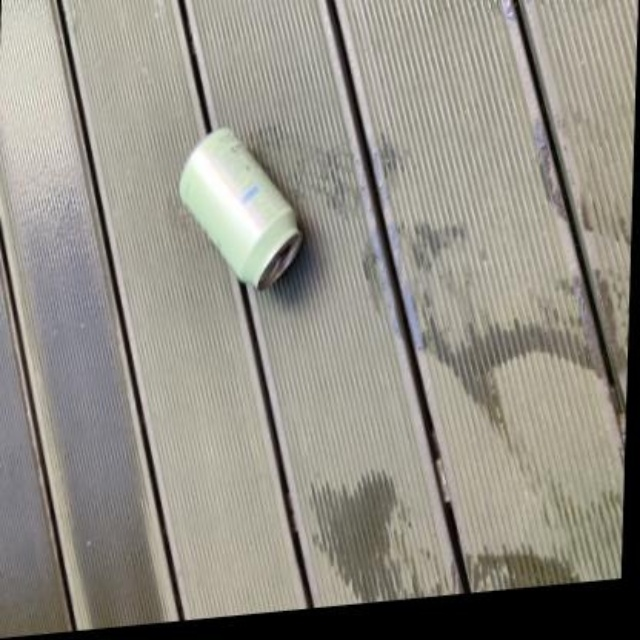trash: (180, 128, 300, 288)
